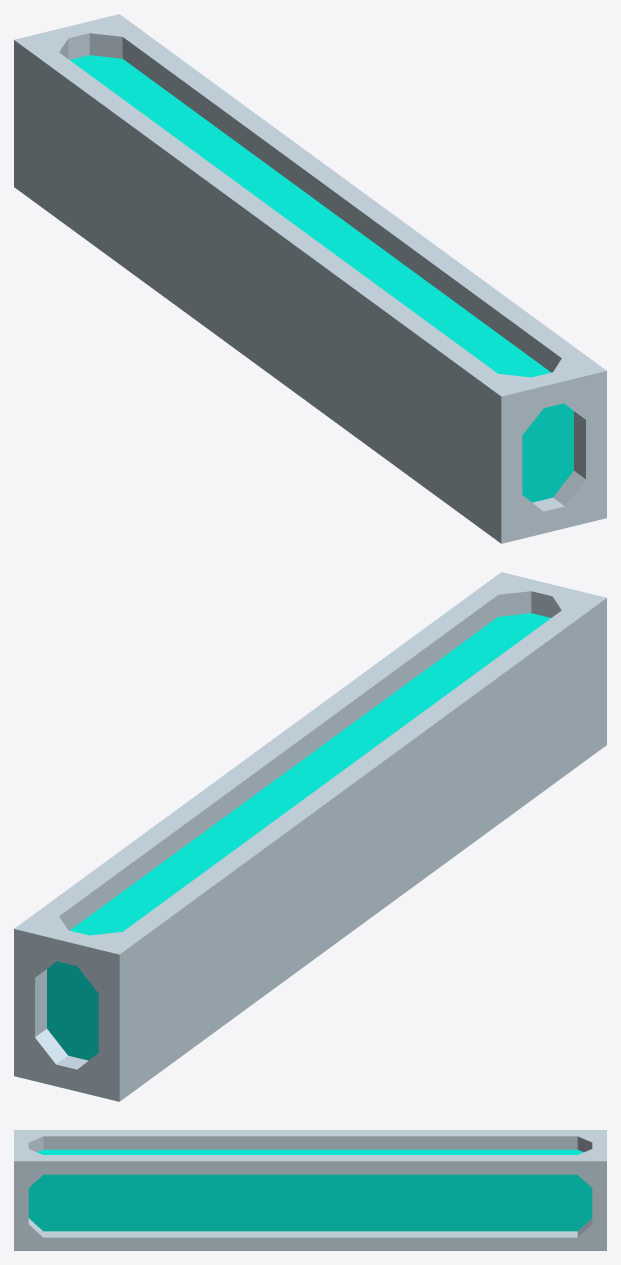
File: lamp-10.fbx
3 views of the same model, one above another, from view 1: azimuth 30°, elevation 25°; view 2: azimuth 150°, elevation 25°; view 3: azimuth 270°, elevation 25° (orthographic). The views are drawn at different scales.
Parts seen in each view (by area): view 1: lamp-10; view 2: lamp-10; view 3: lamp-10.
Boxes of the visible parts, x1,y1,x2,y2 form: lamp-10: (14, 14, 606, 543); lamp-10: (14, 572, 606, 1101); lamp-10: (14, 1130, 606, 1250).
Size of the model in its own units: 5.04 by 6.72 by 40.32.
